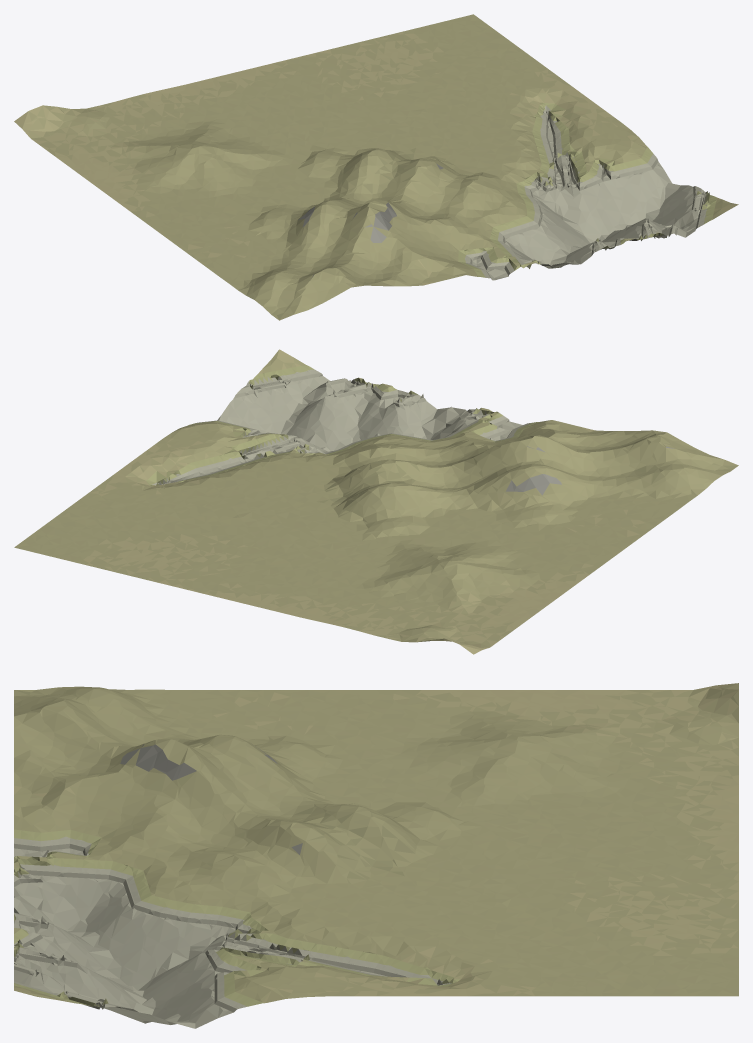
File: Ground_0_-2.glb
The picture shows the model from 3 angles, top to bottom: view 1: azimuth 30°, elevation 25°; view 2: azimuth 150°, elevation 25°; view 3: azimuth 270°, elevation 25°; orthographic projection. The views are drawn at different scales.
Parts seen in each view (by area): view 1: Ground_0_-2; view 2: Ground_0_-2; view 3: Ground_0_-2.
Part boxes in pixels (bbox=[...]): Ground_0_-2: bbox=[14, 14, 738, 320]; Ground_0_-2: bbox=[14, 349, 738, 654]; Ground_0_-2: bbox=[14, 683, 738, 1028].
Size of the model in its own units: 768 by 126 by 768.
